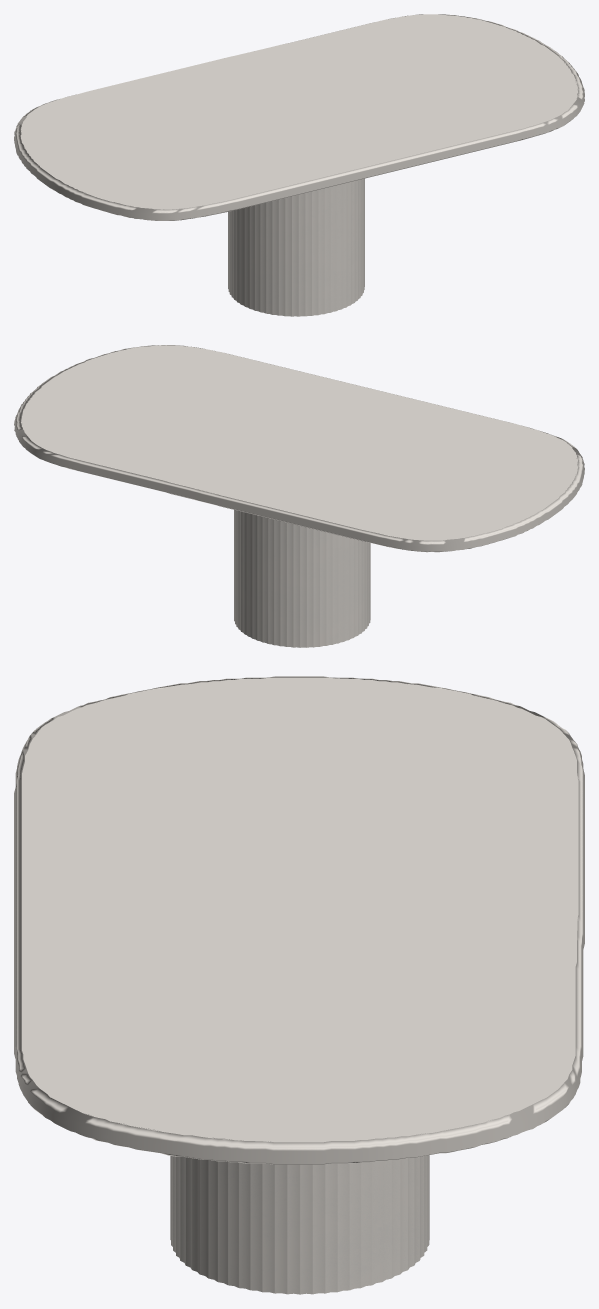
Rendered from pearlwhite_oval_round_ripple.glb.
The picture shows the model from 3 angles, top to bottom: view 1: azimuth 30°, elevation 25°; view 2: azimuth 150°, elevation 25°; view 3: azimuth 270°, elevation 25°; orthographic projection. The views are drawn at different scales.
Parts seen in each view (by area): view 1: round_oval, ripple; view 2: round_oval, ripple; view 3: round_oval, ripple.
Part boxes in pixels (left/top/right/bottom): round_oval: left=14, top=14, right=584, bottom=220; ripple: left=228, top=178, right=364, bottom=316; round_oval: left=14, top=345, right=584, bottom=552; ripple: left=234, top=510, right=370, bottom=647; round_oval: left=14, top=676, right=584, bottom=1164; ripple: left=170, top=1155, right=429, bottom=1294.
Bounding box in the file's own units: 7.69 × 2.5 × 3.9.
1 material, 1 textured.
